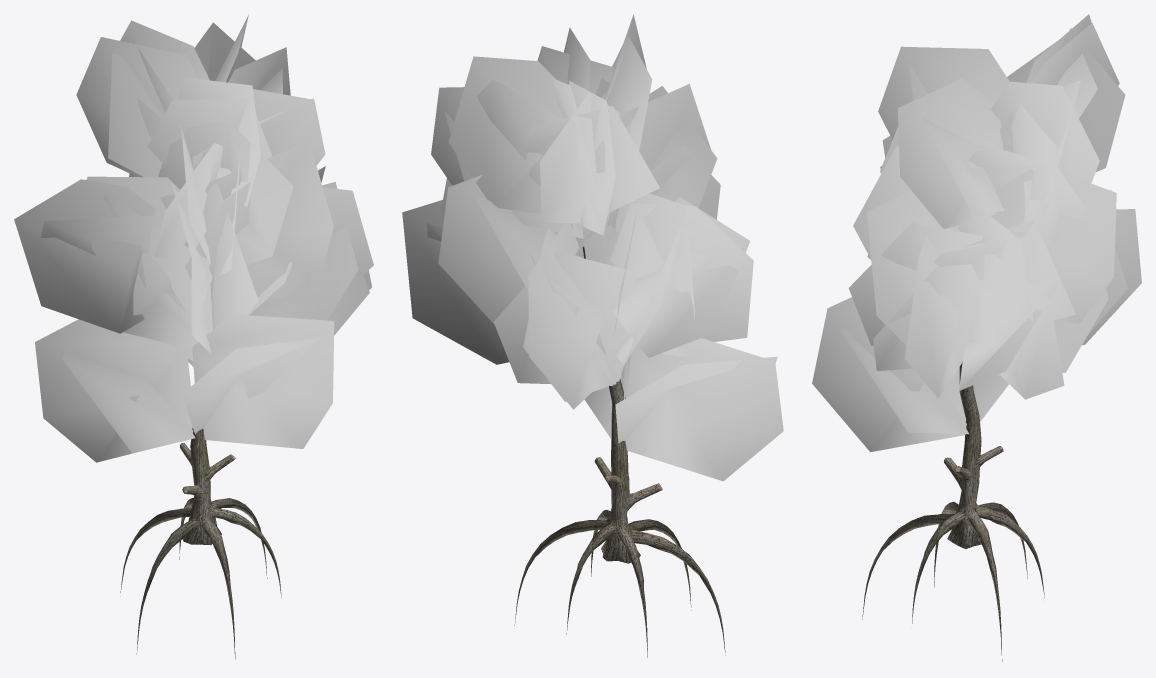
Rendered from Broadleaf_Lower.fbx.
The picture shows the model from 3 angles, left to right: view 1: azimuth 30°, elevation 25°; view 2: azimuth 150°, elevation 25°; view 3: azimuth 270°, elevation 25°; orthographic projection. The views are drawn at different scales.
Visible parts, largest first — view 1: Broadleaf_Lower; view 2: Broadleaf_Lower; view 3: Broadleaf_Lower.
Part boxes in pixels (<box>): Broadleaf_Lower: <box>14,14,373,659</box>; Broadleaf_Lower: <box>402,14,783,657</box>; Broadleaf_Lower: <box>812,14,1141,661</box>.
Size of the model in its own units: 12.31 by 10.36 by 20.92.
